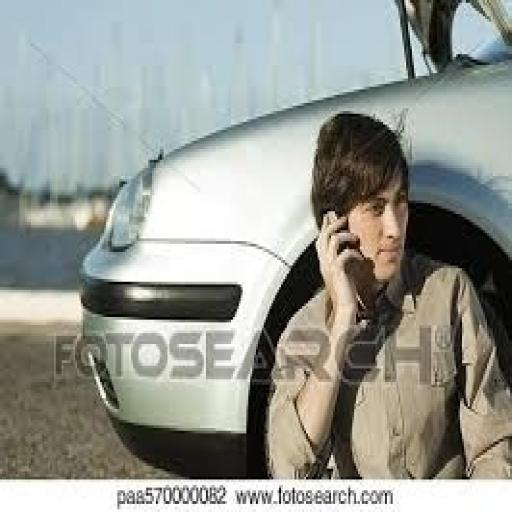calling: (262, 108, 510, 480)
